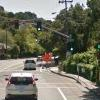Traffic light: (30, 16, 46, 38)
